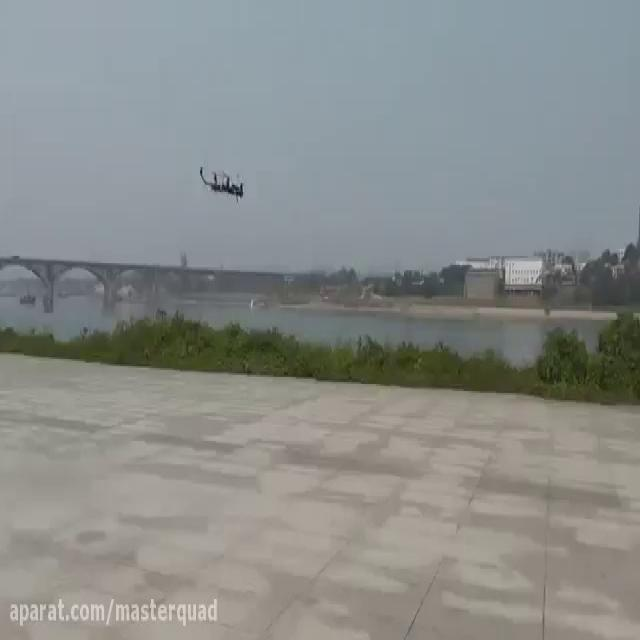drone: (197, 158, 247, 203)
